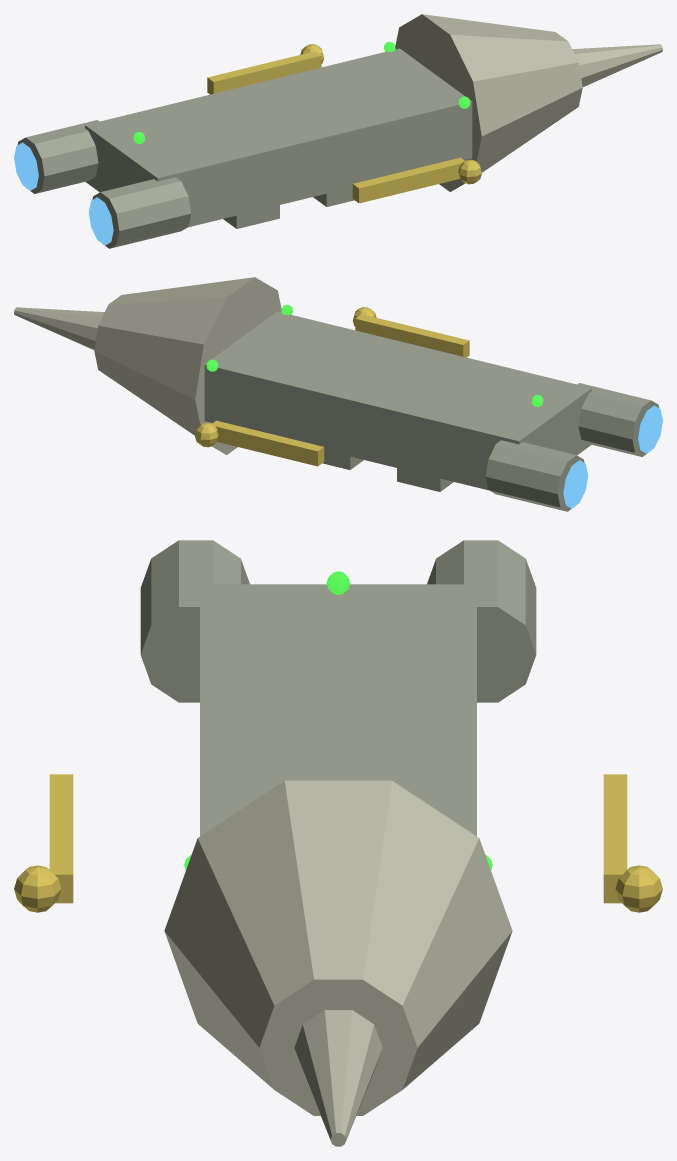
File: mining_frigate.glb
3 views of the same model, one above another, from view 1: azimuth 30°, elevation 25°; view 2: azimuth 150°, elevation 25°; view 3: azimuth 270°, elevation 25° (orthographic). The views are drawn at different scales.
Visible parts, largest first — view 1: Hull, Nose, Eng-1, Eng1, Arm-1, Arm1, Drill, Glow-1, Glow1, Cargo-0.15, Cargo0.1, Tip-1; view 2: Hull, Nose, Eng1, Eng-1, Arm1, Arm-1, Drill, Glow1, Glow-1, Cargo-0.15, Cargo0.1, Tip1; view 3: Nose, Hull, Eng-1, Eng1, Drill, Arm-1, Arm1, Tip-1, Tip1.
Part boxes in pixels (x1=…): Hull: x1=85, y1=48, x2=472, y2=227; Nose: x1=395, y1=14, x2=582, y2=191; Eng-1: x1=92, y1=177, x2=191, y2=248; Eng1: x1=17, y1=120, x2=99, y2=193; Arm-1: x1=352, y1=157, x2=464, y2=203; Arm1: x1=207, y1=52, x2=321, y2=94; Drill: x1=572, y1=44, x2=662, y2=86; Glow-1: x1=88, y1=197, x2=113, y2=245; Glow1: x1=14, y1=142, x2=38, y2=190; Cargo-0.15: x1=223, y1=205, x2=279, y2=228; Cargo0.1: x1=313, y1=187, x2=354, y2=206; Tip-1: x1=458, y1=159, x2=481, y2=184; Hull: x1=204, y1=311, x2=591, y2=490; Nose: x1=94, y1=277, x2=281, y2=454; Eng1: x1=485, y1=440, x2=584, y2=511; Eng-1: x1=577, y1=383, x2=659, y2=456; Arm1: x1=212, y1=420, x2=324, y2=466; Arm-1: x1=355, y1=315, x2=469, y2=357; Drill: x1=14, y1=307, x2=104, y2=349; Glow1: x1=563, y1=460, x2=588, y2=508; Glow-1: x1=638, y1=405, x2=662, y2=453; Cargo-0.15: x1=397, y1=468, x2=453, y2=491; Cargo0.1: x1=322, y1=450, x2=363, y2=469; Tip1: x1=195, y1=422, x2=218, y2=447; Nose: x1=164, y1=780, x2=512, y2=1115; Hull: x1=200, y1=584, x2=476, y2=836; Eng-1: x1=140, y1=540, x2=249, y2=702; Eng1: x1=427, y1=540, x2=536, y2=702; Drill: x1=294, y1=1010, x2=382, y2=1146; Arm-1: x1=49, y1=774, x2=73, y2=903; Arm1: x1=603, y1=774, x2=627, y2=903; Tip-1: x1=14, y1=865, x2=61, y2=912; Tip1: x1=615, y1=865, x2=662, y2=912.
Bounding box in the file's own units: 1.66 × 0.4185 × 0.82.
